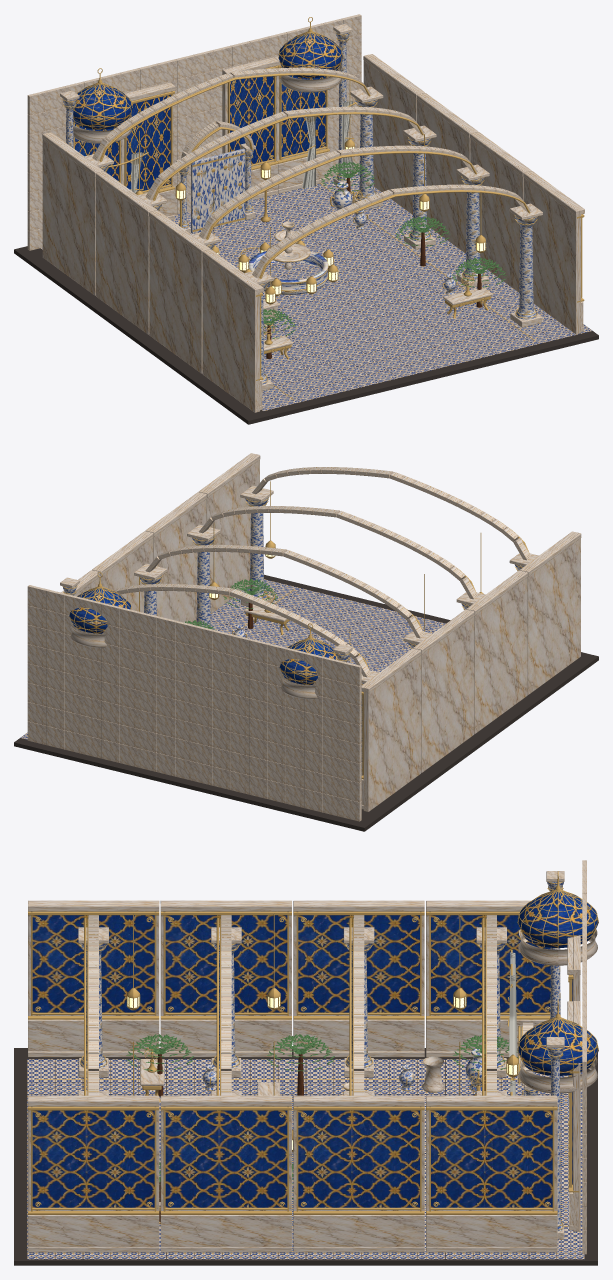
File: room-5.glb
3 views of the same model, one above another, from view 1: azimuth 30°, elevation 25°; view 2: azimuth 150°, elevation 25°; view 3: azimuth 270°, elevation 25° (orthographic). The views are drawn at different scales.
Parts seen in each view (by area): view 1: Detailed Ivory marble, Detailed Fine floor tile, Detailed Blue gilded lattice, Detailed Hand chased antique gilt, Detailed Dark recess, Detailed Cobalt floral porcelain, Detailed Garden leaves, Carved final door, Carved final door.003, Detailed Warm porcelain ivory, Detailed Warm lamp glass; view 2: Detailed Ivory marble, Detailed Dark recess, Detailed Fine floor tile, Detailed Cobalt floral porcelain, Detailed Hand chased antique gilt, Detailed Blue gilded lattice, Detailed Garden leaves; view 3: Detailed Blue gilded lattice, Detailed Ivory marble, Detailed Hand chased antique gilt, Detailed Fine floor tile, Detailed Dark recess, Detailed Cobalt floral porcelain, Detailed Garden leaves, Detailed Warm porcelain ivory, Detailed Polished dark walnut.
Boxes of the visible parts, bbox=[...] form: Detailed Ivory marble: bbox=[27, 14, 584, 412]; Detailed Fine floor tile: bbox=[41, 172, 591, 410]; Detailed Blue gilded lattice: bbox=[73, 33, 342, 191]; Detailed Hand chased antique gilt: bbox=[62, 17, 584, 400]; Detailed Dark recess: bbox=[14, 176, 598, 424]; Detailed Cobalt floral porcelain: bbox=[63, 32, 537, 384]; Detailed Garden leaves: bbox=[263, 162, 506, 338]; Carved final door: bbox=[191, 155, 218, 233]; Carved final door.003: bbox=[217, 148, 245, 227]; Detailed Warm porcelain ivory: bbox=[131, 100, 355, 193]; Detailed Warm lamp glass: bbox=[177, 147, 485, 302]; Detailed Ivory marble: bbox=[27, 453, 581, 821]; Detailed Dark recess: bbox=[14, 574, 598, 831]; Detailed Fine floor tile: bbox=[21, 579, 445, 739]; Detailed Cobalt floral porcelain: bbox=[63, 497, 523, 775]; Detailed Hand chased antique gilt: bbox=[62, 481, 529, 779]; Detailed Blue gilded lattice: bbox=[69, 588, 336, 684]; Detailed Garden leaves: bbox=[185, 579, 277, 630]; Detailed Blue gilded lattice: bbox=[32, 891, 598, 1207]; Detailed Ivory marble: bbox=[28, 860, 597, 1254]; Detailed Hand chased antique gilt: bbox=[28, 871, 598, 1230]; Detailed Fine floor tile: bbox=[27, 1059, 584, 1259]; Detailed Dark recess: bbox=[14, 1048, 597, 1265]; Detailed Cobalt floral porcelain: bbox=[80, 882, 563, 1231]; Detailed Garden leaves: bbox=[126, 1034, 518, 1198]; Detailed Warm porcelain ivory: bbox=[509, 952, 516, 1095]; Detailed Polished dark walnut: bbox=[157, 1054, 485, 1224].
Bounding box in the file's own units: 19 × 9.3 × 22.04.
10 materials, 5 textured.
